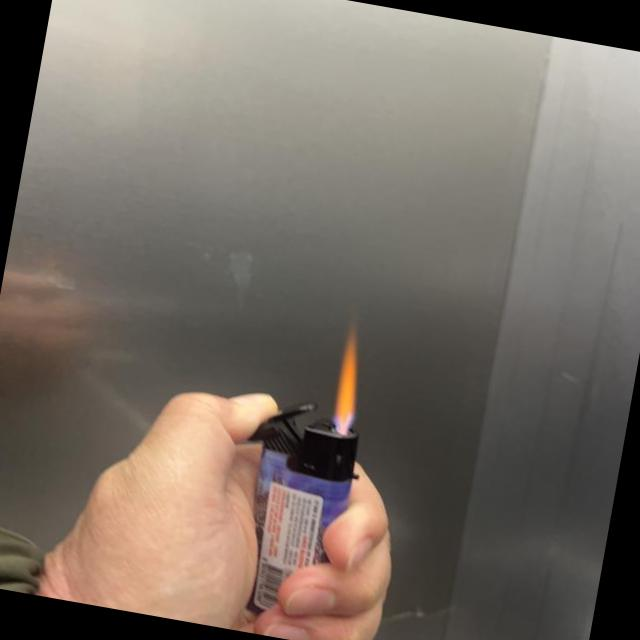Fire: (326, 322, 372, 434)
